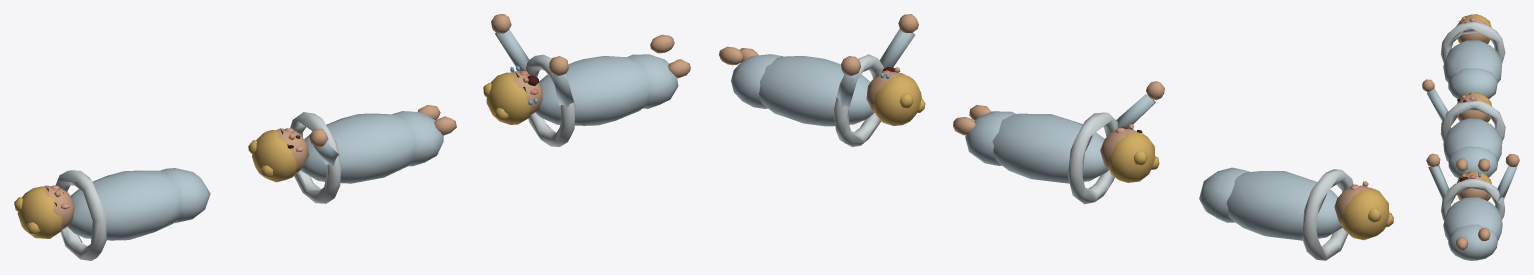
The picture shows the model from 3 angles, left to right: view 1: azimuth 30°, elevation 25°; view 2: azimuth 150°, elevation 25°; view 3: azimuth 270°, elevation 25°; orthographic projection. The views are drawn at different scales.
Visible parts, largest first — view 1: w_em_be_khoc, w_em_be_cua, w_em_be_ngu; view 2: w_em_be_khoc, w_em_be_cua, w_em_be_ngu; view 3: w_em_be_khoc, w_em_be_cua, w_em_be_ngu.
Boxes of the visible parts, <box> form: w_em_be_khoc: <box>483,14,690,146</box>; w_em_be_cua: <box>248,105,456,203</box>; w_em_be_ngu: <box>14,168,210,260</box>; w_em_be_khoc: <box>719,14,925,146</box>; w_em_be_cua: <box>953,81,1164,204</box>; w_em_be_ngu: <box>1199,167,1393,260</box>; w_em_be_khoc: <box>1426,153,1519,260</box>; w_em_be_cua: <box>1422,79,1505,178</box>; w_em_be_ngu: <box>1440,14,1505,98</box>.
Bounding box in the file's own units: 2.11 × 0.3444 × 0.393.
